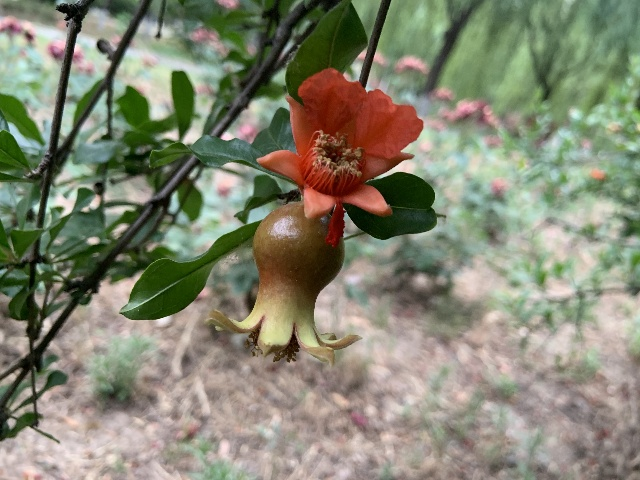early-fruit: (205, 203, 360, 366)
flower: (256, 68, 422, 247)
